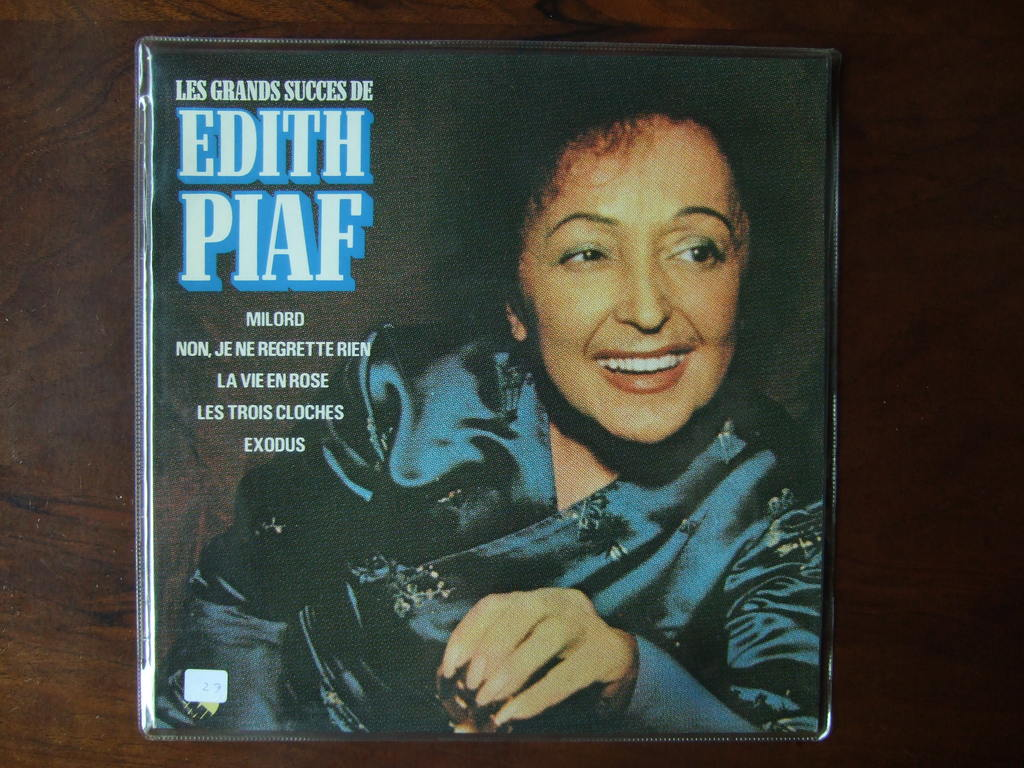Human_hand: (429, 581, 666, 722)
